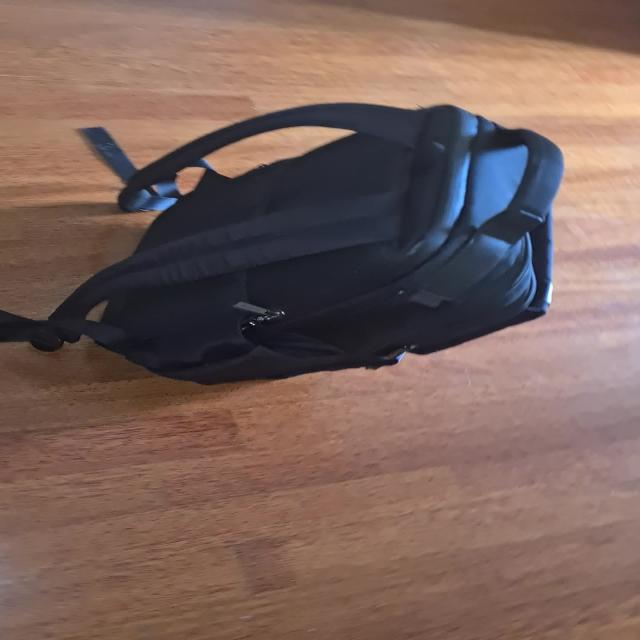backpack: (25, 91, 576, 385)
